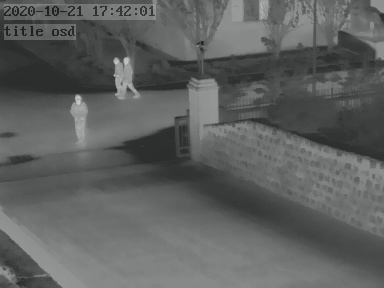person: (70, 93, 88, 143), (122, 56, 136, 96), (110, 57, 124, 96)
